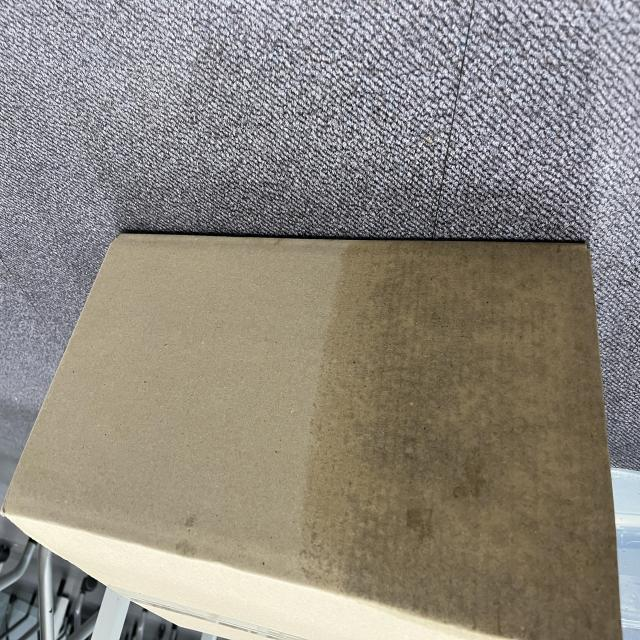wet: (23, 1, 632, 453)
